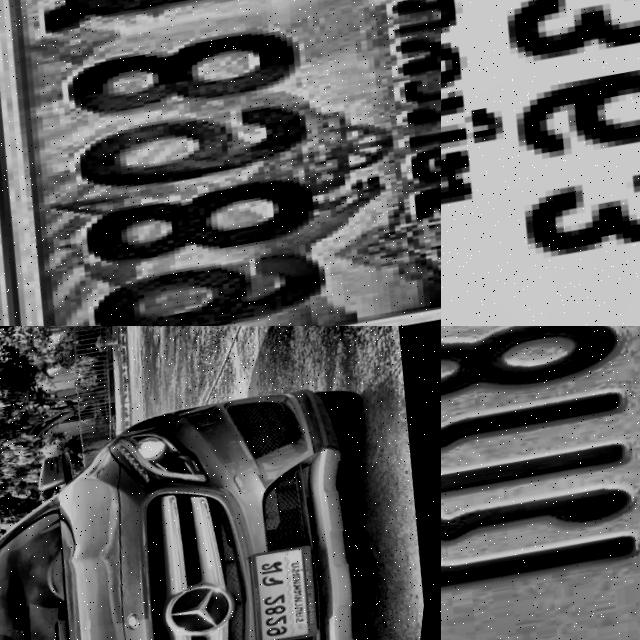license-plate: (0, 0, 441, 326), (441, 0, 640, 326), (441, 326, 640, 640), (240, 540, 334, 640)
